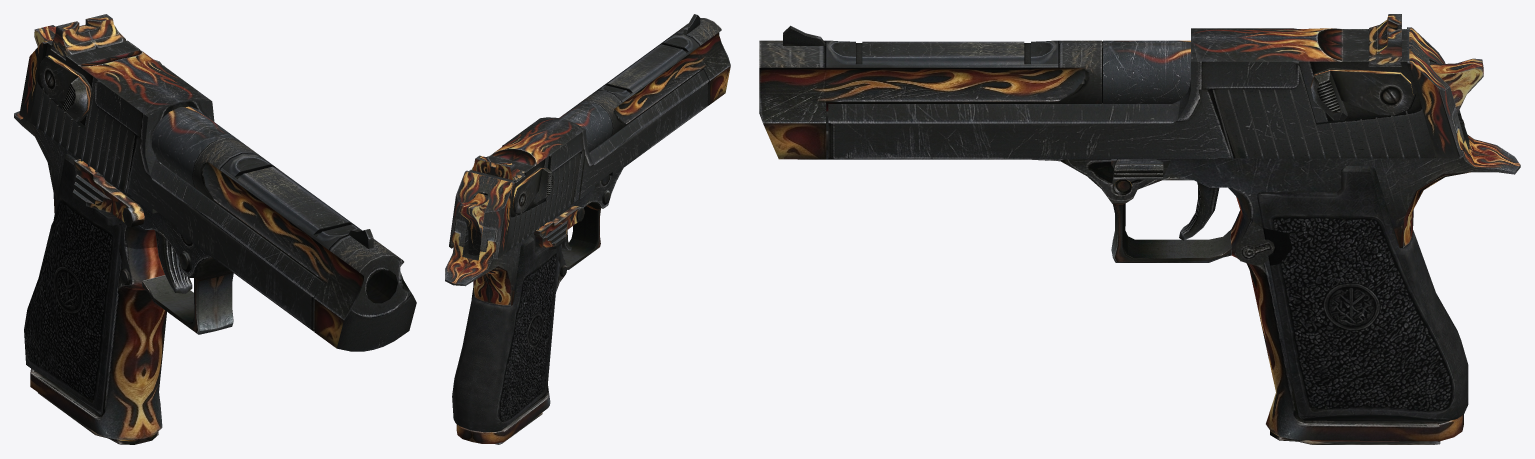
Rendered from Pistol_Flame.fbx.
3 renders of one model, left to right at view 1: azimuth 30°, elevation 25°; view 2: azimuth 150°, elevation 25°; view 3: azimuth 270°, elevation 25°, orthographic. The views are drawn at different scales.
Parts seen in each view (by area): view 1: GunMesh; view 2: GunMesh; view 3: GunMesh.
Part boxes in pixels (bbox=[...]): GunMesh: bbox=[14, 14, 416, 444]; GunMesh: bbox=[445, 14, 730, 444]; GunMesh: bbox=[759, 14, 1520, 444].
Size of the model in its own units: 0.0472 by 0.1754 by 0.3.
Materials: 1 (1 with a texture image).
